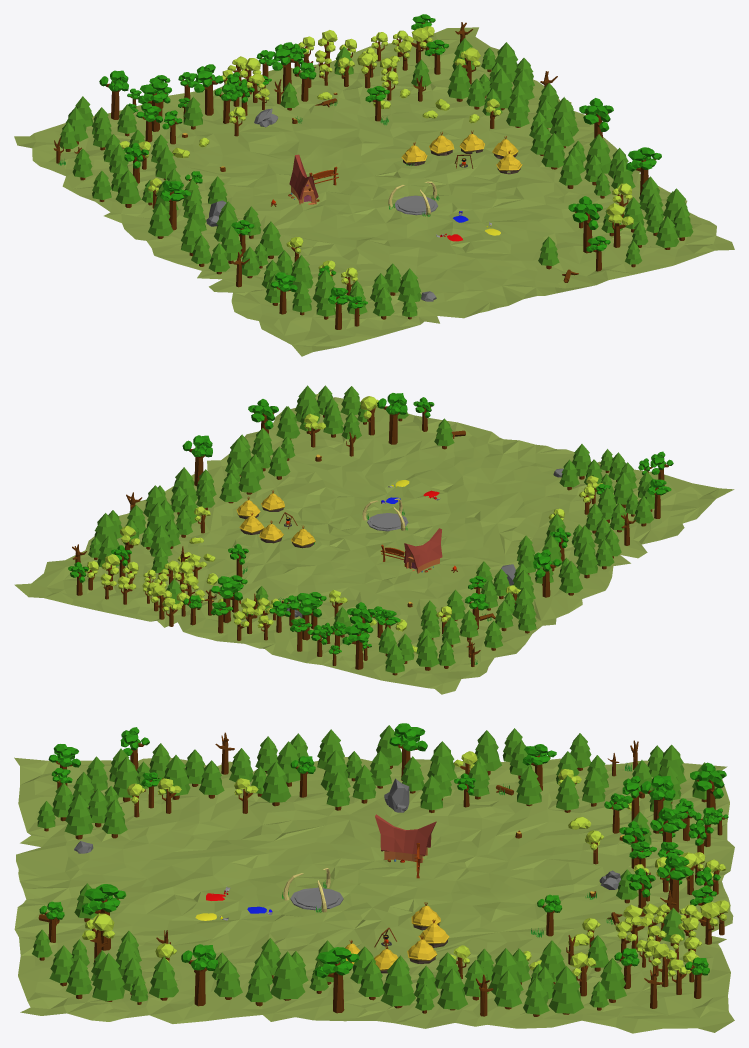
Rendered from polyland_0505.FBX.
3 renders of one model, top to bottom at view 1: azimuth 30°, elevation 25°; view 2: azimuth 150°, elevation 25°; view 3: azimuth 270°, elevation 25°, orthographic. The views are drawn at different scales.
Parts seen in each view (by area): view 1: Hedra004, Shop, 05tree014, Cylinder001, 05tree037, 05tree025, 05tree011, 05tree030, 05tree035, 05tree012, 05tree020, 01tree058 (+6 smaller); view 2: Hedra004, Shop, Cylinder001, 05tree014, 05tree035, 05tree037, 05tree012, 05tree025, 05tree030, 05tree011, 01tree052, 01tree060 (+4 smaller); view 3: Hedra004, Shop, 05tree037, Cylinder001, 01tree077, 01tree091, 01tree018, 01tree068, 05tree011, 05tree014, 05tree035, 05tree012 (+62 smaller).
Part boxes in pixels (x1=…): Hedra004: x1=14, y1=27, x2=734, y2=356; Shop: x1=288, y1=154, x2=338, y2=204; 05tree014: x1=568, y1=196, x2=602, y2=253; Cylinder001: x1=388, y1=181, x2=437, y2=215; 05tree037: x1=579, y1=98, x2=613, y2=138; 05tree025: x1=194, y1=64, x2=223, y2=115; 05tree011: x1=626, y1=147, x2=661, y2=195; 05tree030: x1=272, y1=42, x2=301, y2=90; 05tree035: x1=99, y1=70, x2=128, y2=119; 05tree012: x1=160, y1=181, x2=191, y2=230; 05tree020: x1=138, y1=81, x2=171, y2=131; 01tree058: x1=115, y1=170, x2=141, y2=207; Hedra004: x1=14, y1=393, x2=734, y2=694; Shop: x1=380, y1=528, x2=442, y2=573; Cylinder001: x1=362, y1=498, x2=408, y2=531; 05tree014: x1=377, y1=393, x2=407, y2=444; 05tree035: x1=342, y1=622, x2=373, y2=669; 05tree037: x1=182, y1=435, x2=212, y2=486; 05tree012: x1=533, y1=549, x2=561, y2=597; 05tree025: x1=289, y1=593, x2=321, y2=640; 05tree030: x1=210, y1=576, x2=242, y2=622; 05tree011: x1=248, y1=399, x2=278, y2=433; 01tree052: x1=416, y1=634, x2=439, y2=670; 01tree060: x1=238, y1=460, x2=261, y2=494; Hedra004: x1=14, y1=757, x2=734, y2=1033; Shop: x1=375, y1=814, x2=436, y2=878; 05tree037: x1=315, y1=947, x2=359, y2=1013; Cylinder001: x1=283, y1=868, x2=343, y2=912; 01tree077: x1=380, y1=958, x2=415, y2=1008; 01tree091: x1=548, y1=966, x2=583, y2=1014; 01tree018: x1=270, y1=951, x2=305, y2=1000; 01tree068: x1=92, y1=953, x2=124, y2=1001; 05tree011: x1=181, y1=944, x2=218, y2=1006; 05tree014: x1=82, y1=884, x2=126, y2=950; 05tree035: x1=690, y1=762, x2=726, y2=809; 05tree012: x1=389, y1=723, x2=427, y2=780.
Size of the model in its own units: 182 by 22.21 by 201.
